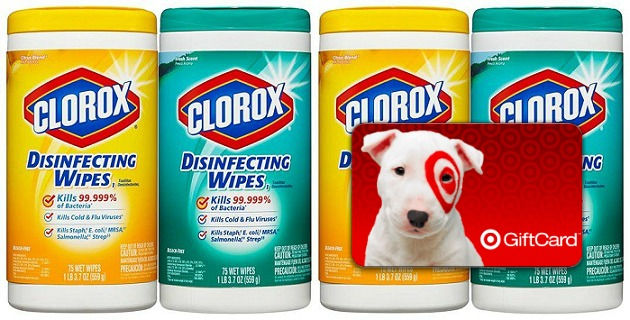Wipes: (154, 2, 316, 314), (315, 1, 473, 316), (2, 2, 160, 316), (468, 4, 627, 316)
